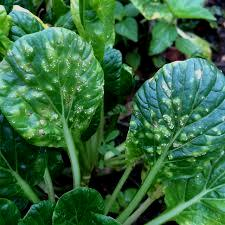Bok-Choy-Diseased: (139, 58, 225, 199), (0, 32, 101, 140)
